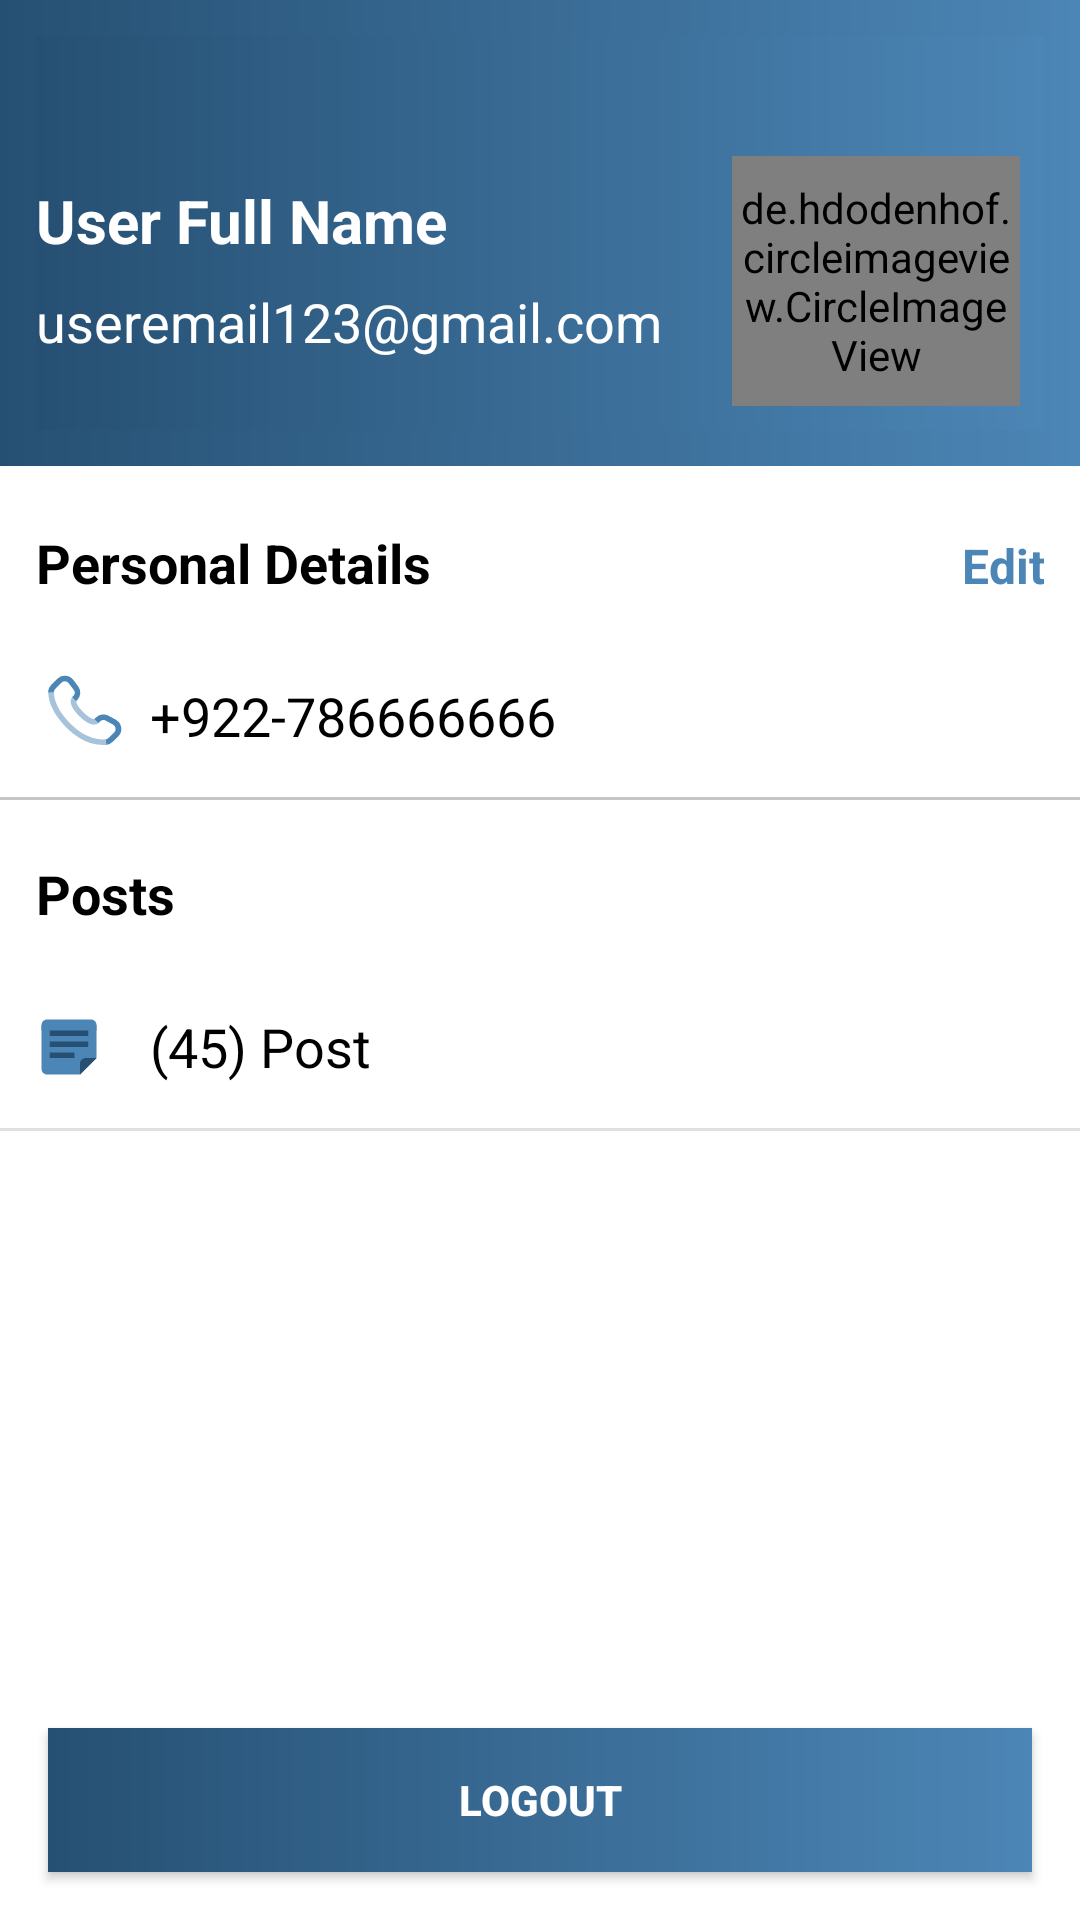

Screen size 1080w x 1920h. Icon name, then its box in pixels as (x1, y1, x2, y2):
phone: (48, 675, 122, 745)
